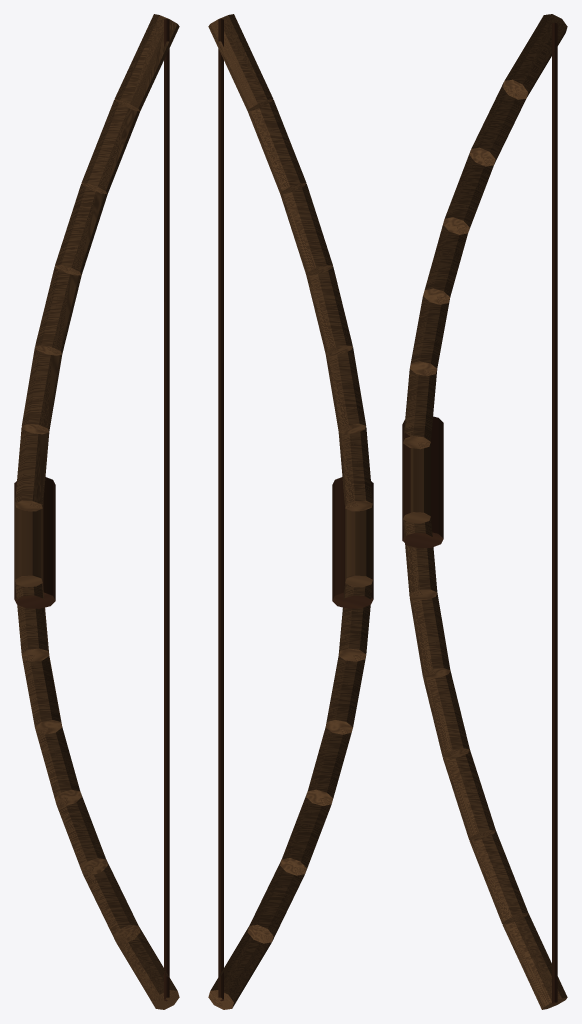
The model's file is bow.glb.
3 views of the same model, side by side, from view 1: azimuth 30°, elevation 25°; view 2: azimuth 150°, elevation 25°; view 3: azimuth 330°, elevation 25° (orthographic).
Parts seen in each view (by area): view 1: bow; view 2: bow; view 3: bow.
Part boxes in pixels (<box>): bow: <box>14,14,179,1009</box>; bow: <box>208,14,373,1009</box>; bow: <box>402,14,567,1009</box>.
Size of the model in its own units: 0.2326 by 1.37 by 0.0495.
Materials: 2 (2 with a texture image).
